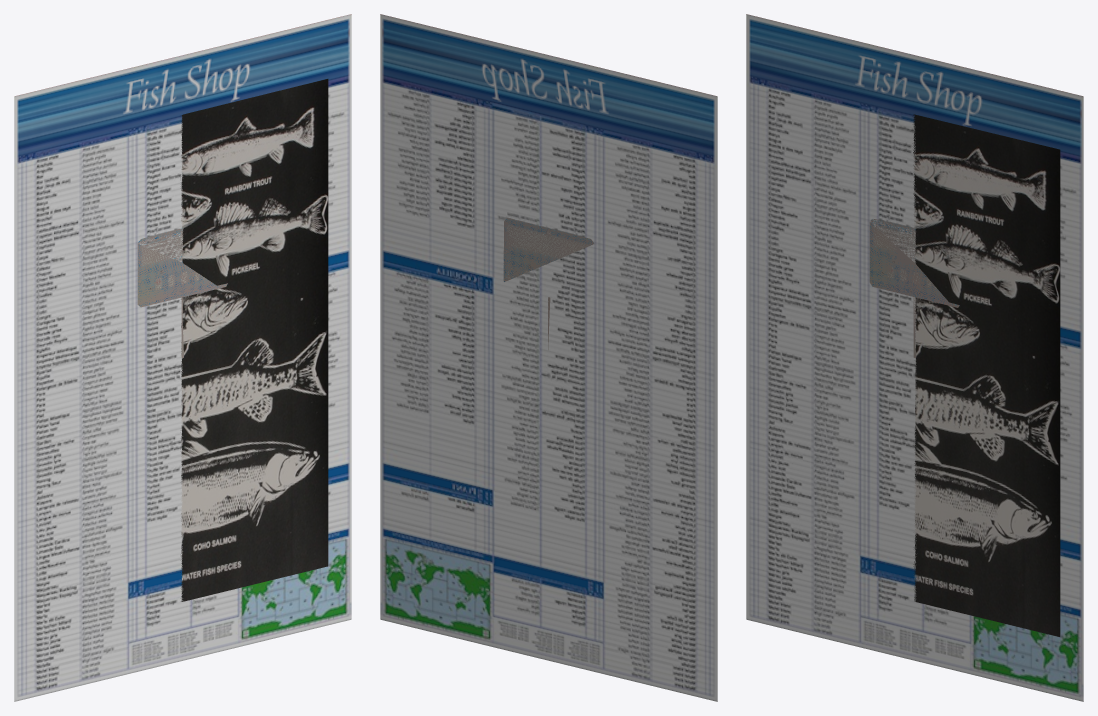
Rendered from fishshop_infos.FBX.
3 renders of one model, left to right at view 1: azimuth 30°, elevation 25°; view 2: azimuth 150°, elevation 25°; view 3: azimuth 330°, elevation 25°, orthographic.
Parts seen in each view (by area): view 1: fishshop_info_01, fishshop_info_02, fishshop_price; view 2: fishshop_info_01, fishshop_price; view 3: fishshop_info_01, fishshop_info_02, fishshop_price.
Part boxes in pixels (box(x1,y1,x2,y2)): fishshop_info_01: box(14, 14, 351, 701); fishshop_info_02: box(180, 79, 328, 601); fishshop_price: box(137, 228, 227, 357); fishshop_info_01: box(380, 14, 717, 701); fishshop_price: box(503, 218, 594, 349); fishshop_info_01: box(746, 14, 1083, 701); fishshop_info_02: box(913, 114, 1060, 636); fishshop_price: box(869, 219, 959, 357).
Size of the model in its own units: 0.5697 by 0.9769 by 4.18e-06.
